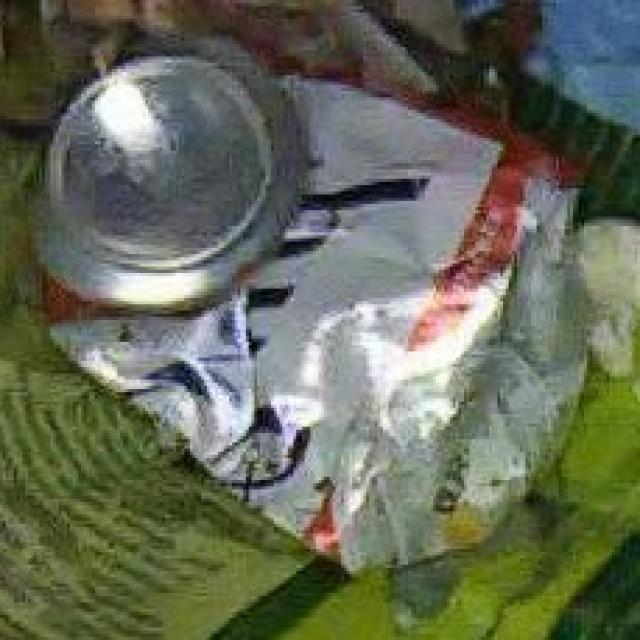litter: (41, 57, 584, 549)
